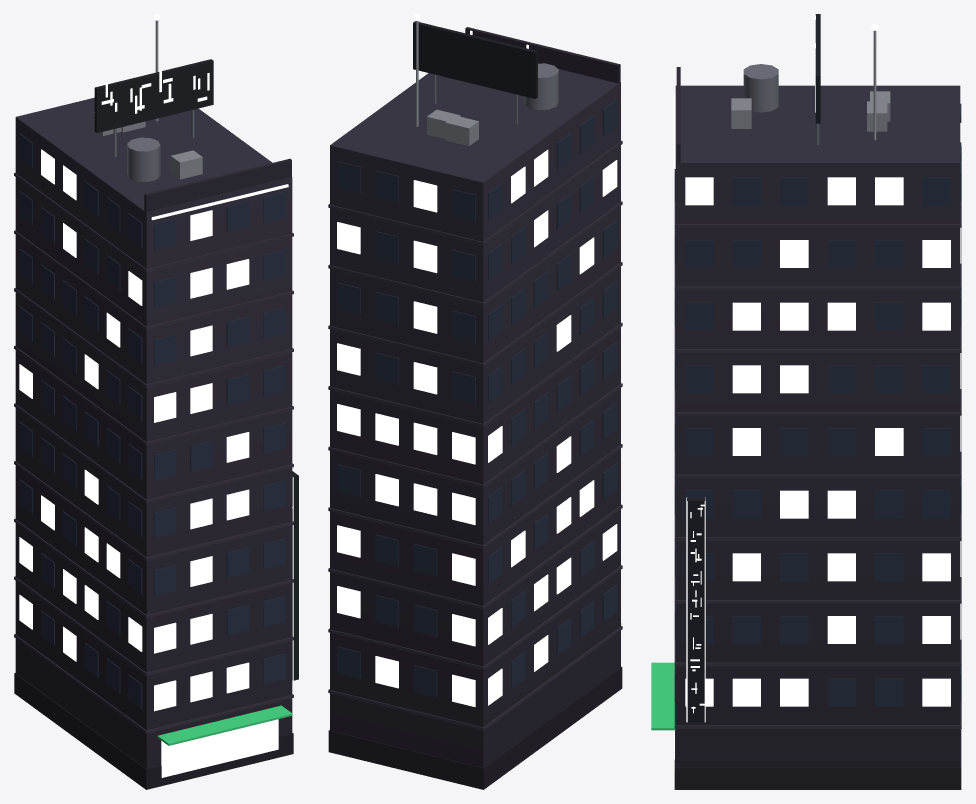
The model's file is torre_neon_d.glb.
The picture shows the model from 3 angles, left to right: view 1: azimuth 30°, elevation 25°; view 2: azimuth 150°, elevation 25°; view 3: azimuth 270°, elevation 25°; orthographic projection. The views are drawn at different scales.
Parts seen in each view (by area): view 1: torre_neon_d_Malla; view 2: torre_neon_d_Malla; view 3: torre_neon_d_Malla.
Boxes of the visible parts, x1,y1,x2,y2 form: torre_neon_d_Malla: (14, 14, 299, 789); torre_neon_d_Malla: (328, 14, 622, 789); torre_neon_d_Malla: (651, 14, 961, 789).
Bounding box in the file's own units: 9.83 × 40.28 × 15.26.
